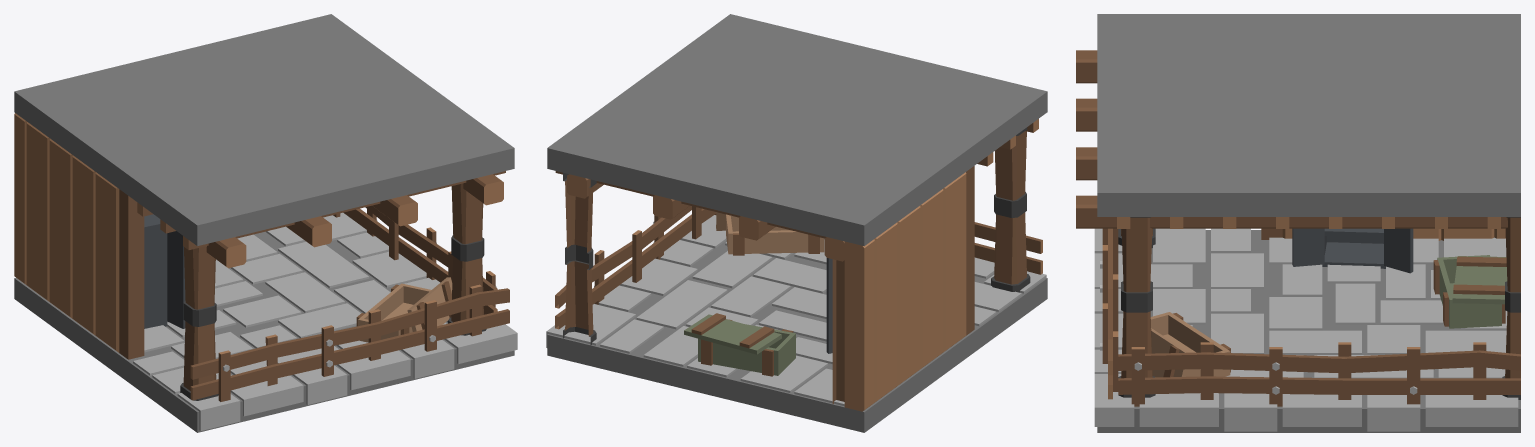
Rendered from WeaponStorage_Lvl_02_Corner_Left.fbx.
3 views of the same model, side by side, from view 1: azimuth 30°, elevation 25°; view 2: azimuth 150°, elevation 25°; view 3: azimuth 270°, elevation 25° (orthographic). The views are drawn at different scales.
Parts seen in each view (by area): view 1: WeaponStorage_Lvl_02_Corner_Left; view 2: WeaponStorage_Lvl_02_Corner_Left; view 3: WeaponStorage_Lvl_02_Corner_Left.
Boxes of the visible parts, bbox=[...] form: WeaponStorage_Lvl_02_Corner_Left: bbox=[14, 14, 517, 432]; WeaponStorage_Lvl_02_Corner_Left: bbox=[546, 14, 1047, 432]; WeaponStorage_Lvl_02_Corner_Left: bbox=[1076, 14, 1520, 432].
Size of the model in its own units: 8.05 by 5 by 8.4.
